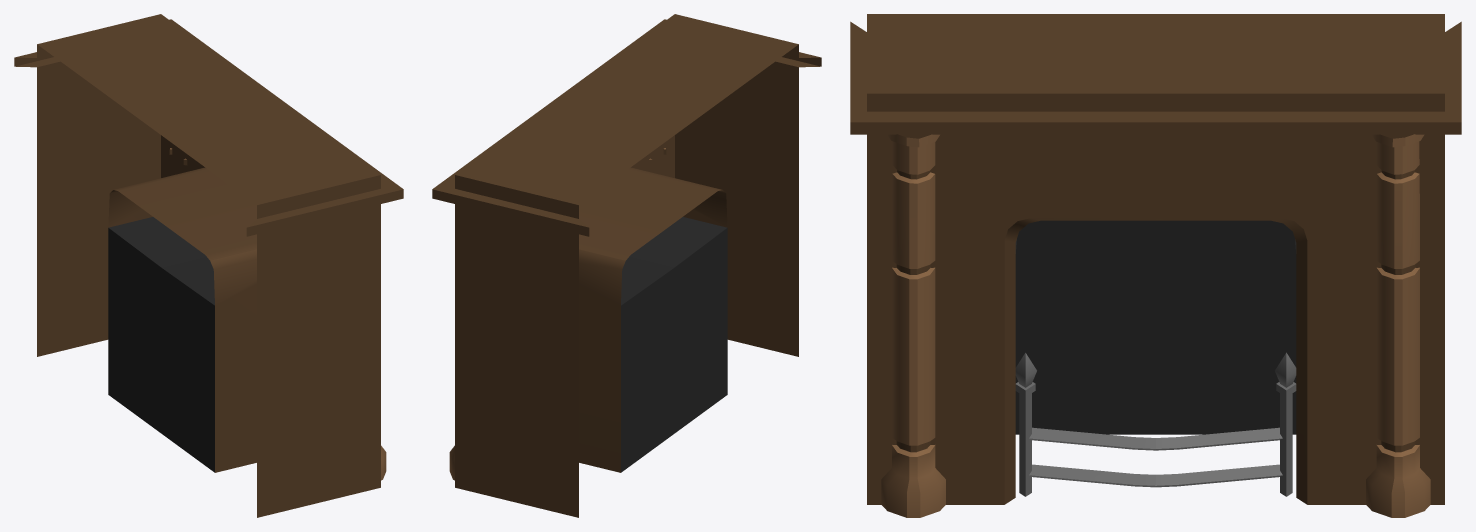
File: fireplace02.gltf
The picture shows the model from 3 angles, left to right: view 1: azimuth 30°, elevation 25°; view 2: azimuth 150°, elevation 25°; view 3: azimuth 270°, elevation 25°; orthographic projection. The views are drawn at different scales.
Visible parts, largest first — view 1: SM_FirePlace_02; view 2: SM_FirePlace_02; view 3: SM_FirePlace_02.
Boxes of the visible parts, x1,y1,x2,y2 form: SM_FirePlace_02: (14,14,403,517); SM_FirePlace_02: (432,14,821,517); SM_FirePlace_02: (850,14,1461,517).
Size of the model in its own units: 0.4052 by 0.7391 by 0.9921.
